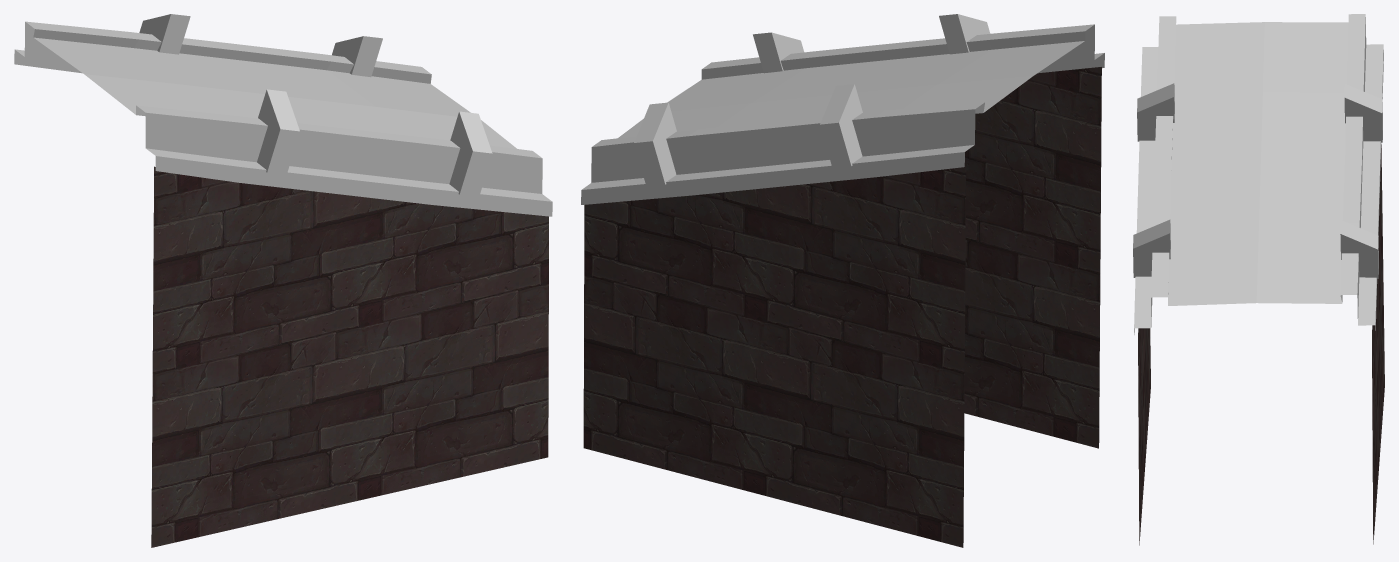
Rendered from 10504_Nbridge04.FBX.
3 views of the same model, side by side, from view 1: azimuth 30°, elevation 25°; view 2: azimuth 150°, elevation 25°; view 3: azimuth 270°, elevation 25° (orthographic). The views are drawn at different scales.
Parts seen in each view (by area): view 1: Object907, m_sj006_3_007; view 2: Object907, m_sj006_3_007; view 3: m_sj006_3_007, Object907.
Boxes of the visible parts, x1,y1,x2,y2 form: Object907: (151, 166, 548, 547); m_sj006_3_007: (14, 14, 552, 216); Object907: (583, 67, 1101, 547); m_sj006_3_007: (581, 14, 1104, 204); m_sj006_3_007: (1133, 14, 1383, 334); Object907: (1138, 144, 1384, 545).
Size of the model in its own units: 948 by 1005 by 618.
